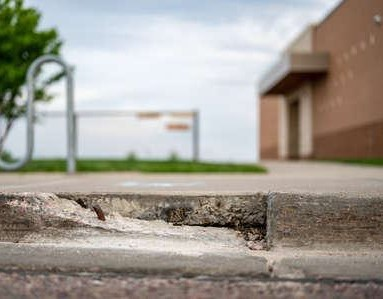Exposed reinforcement: (92, 204, 106, 222)
Spalling: (1, 193, 270, 250)
